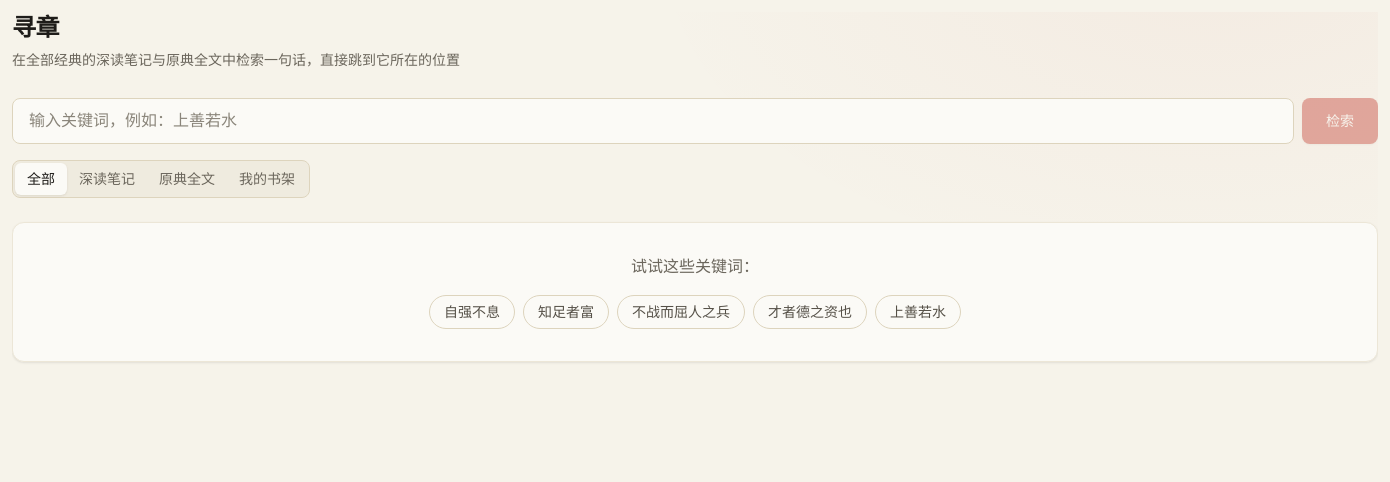
it: 寻章页面 › 原典命中打上「原典」标记，笔记命中打上「笔记」标记
This screenshot has width=1390, height=482.
In the field named "检索关键词": (653, 121) 12,98 -> 1294,144, type "上善若水"
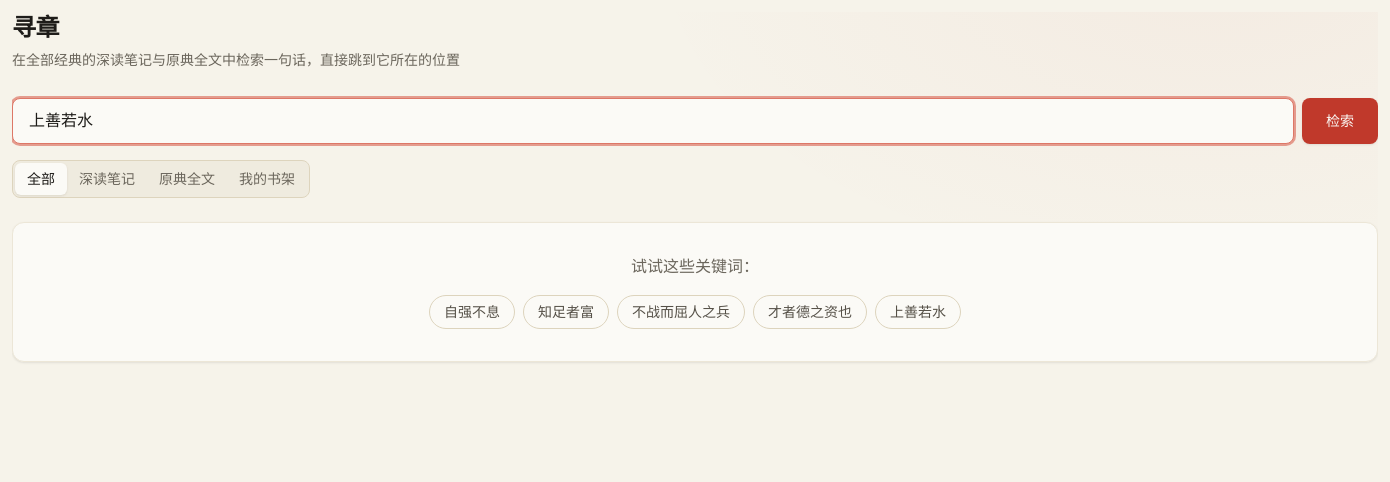
Click the button "检索": (1340, 121) 1302,98 -> 1378,144
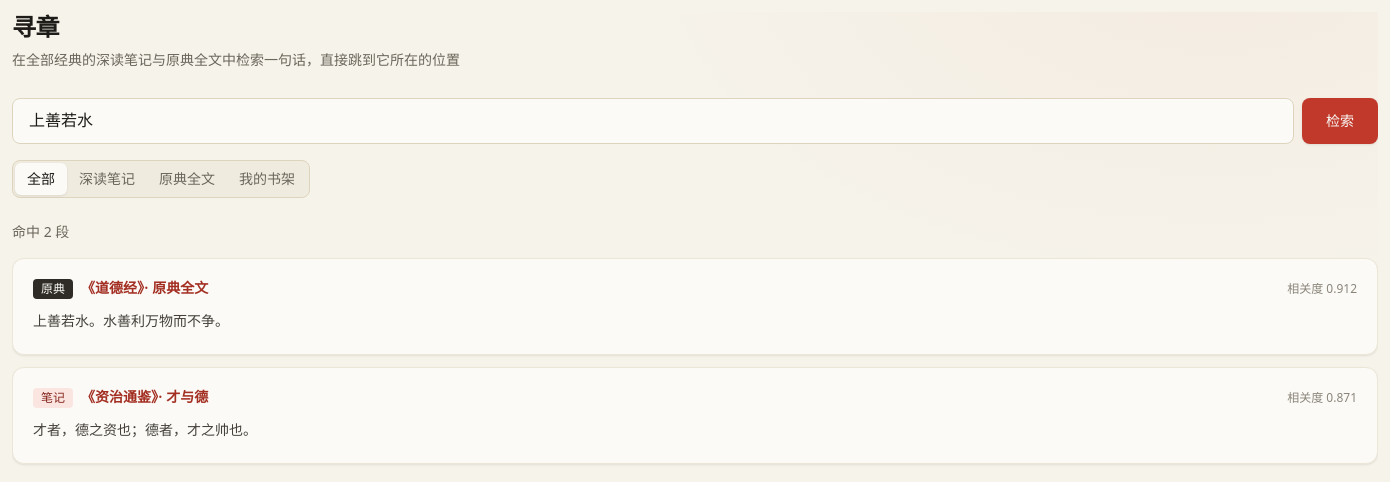
Now the text "原典" is shown, box 41,280 -> 65,297
Now the text "笔记" is shown, box 41,389 -> 65,406
